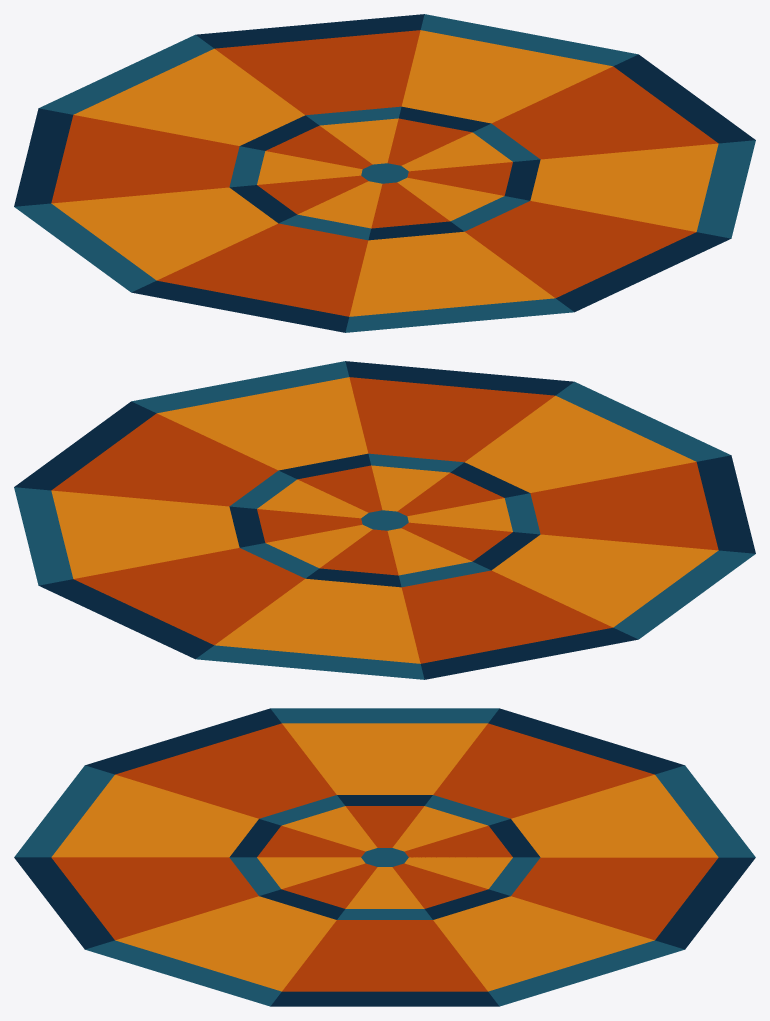
The model's file is dartboard.fbx.
3 views of the same model, one above another, from view 1: azimuth 30°, elevation 25°; view 2: azimuth 150°, elevation 25°; view 3: azimuth 270°, elevation 25° (orthographic). The views are drawn at different scales.
Parts seen in each view (by area): view 1: Circle; view 2: Circle; view 3: Circle.
Part boxes in pixels (<box>): Circle: <box>14,14,755,332</box>; Circle: <box>14,361,755,679</box>; Circle: <box>14,708,755,1006</box>.
Size of the model in its own units: 190 by 3.26e-05 by 200.
